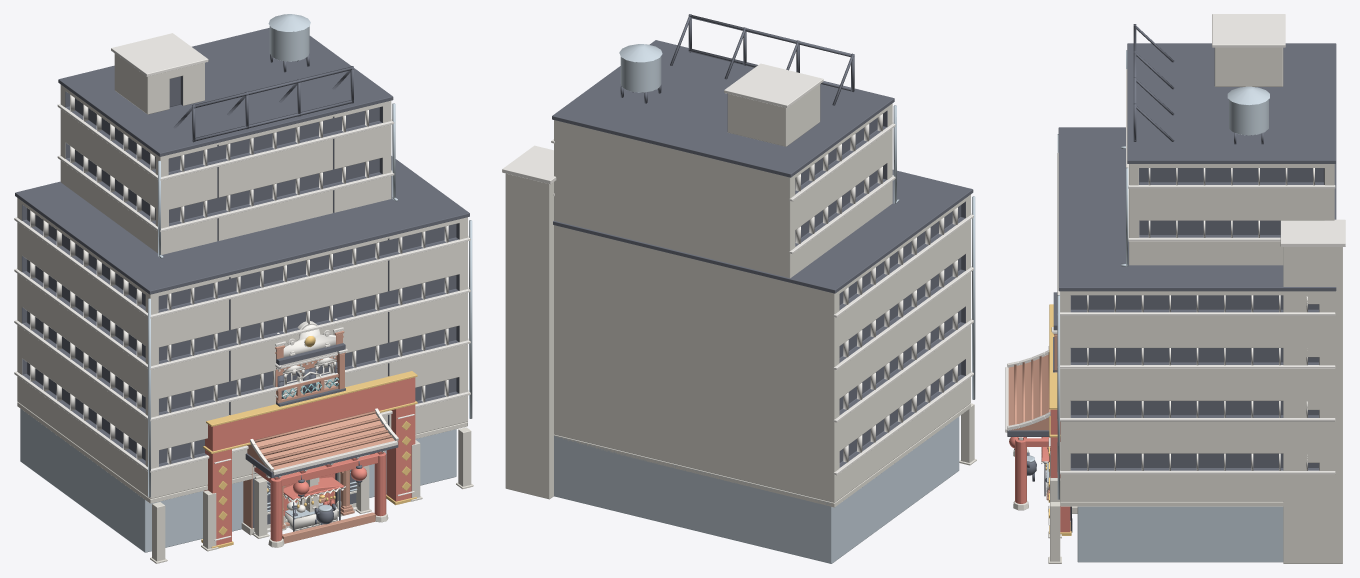
Rendered from bundle-dadao.glb.
3 renders of one model, left to right at view 1: azimuth 30°, elevation 25°; view 2: azimuth 150°, elevation 25°; view 3: azimuth 270°, elevation 25°, orthographic. The views are drawn at different scales.
Parts seen in each view (by area): view 1: main (×3), portal, crest (×2), storey, yang_crest; view 2: main; view 3: main (×2), portal.
Part boxes in pixels (x1=…): main (×3): x1=14, y1=14, x2=473, y2=563; portal: x1=201, y1=371, x2=417, y2=548; crest (×2): x1=275, y1=321, x2=345, y2=370; storey: x1=273, y1=352, x2=345, y2=399; yang_crest: x1=276, y1=374, x2=338, y2=403; main: x1=502, y1=14, x2=976, y2=563; main (×2): x1=1005, y1=14, x2=1345, y2=563; portal: x1=1048, y1=304, x2=1072, y2=535.
Bounding box in the file's own units: 22.38 × 27.85 × 19.87.
